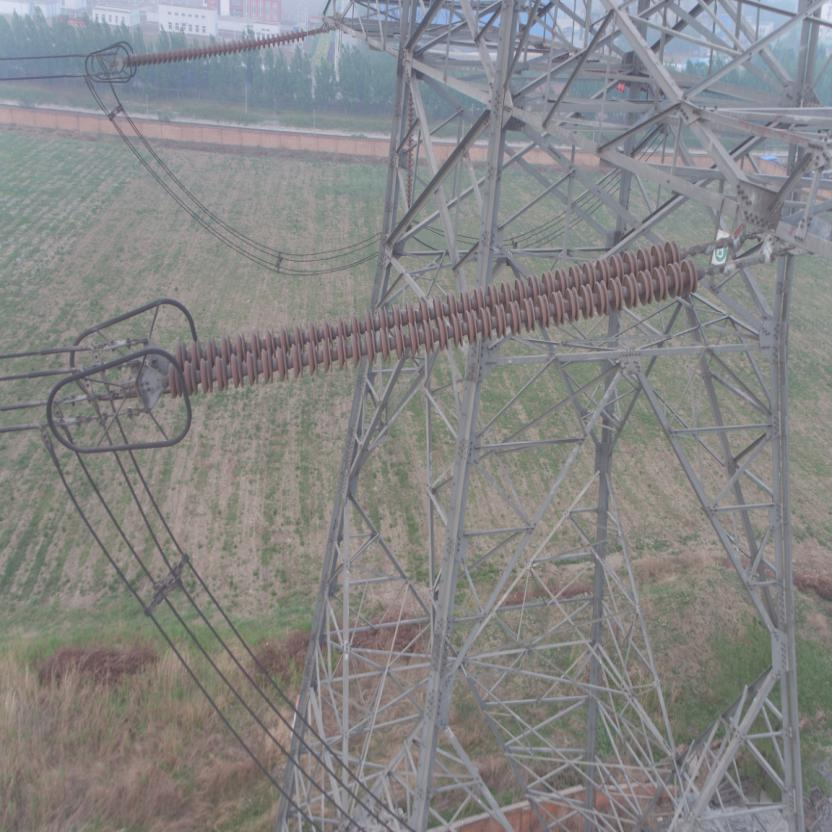insulator: (155, 236, 722, 401), (118, 25, 317, 66)
